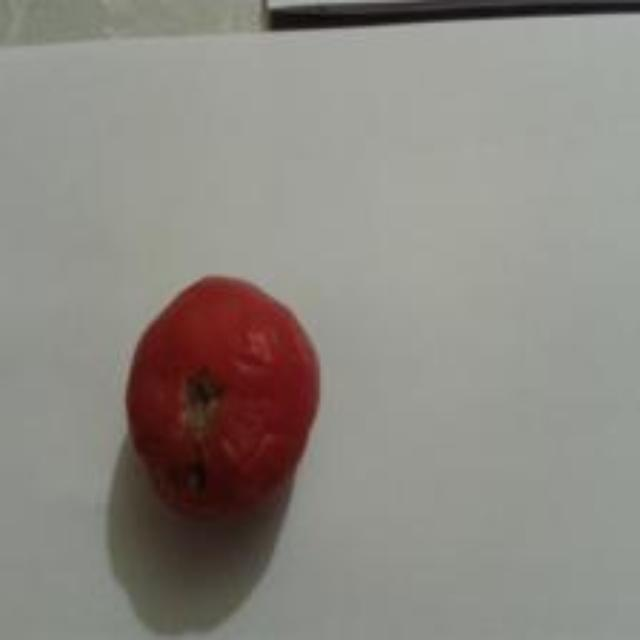defect: (124, 269, 324, 520)
